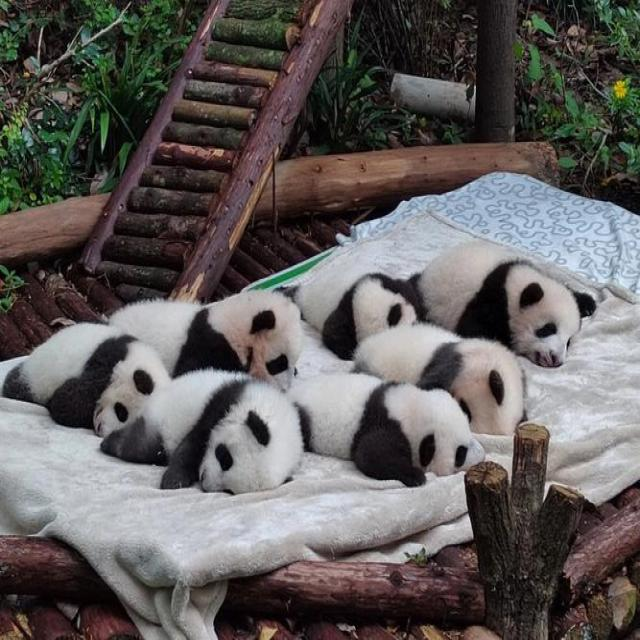panda: (0, 233, 599, 494)
